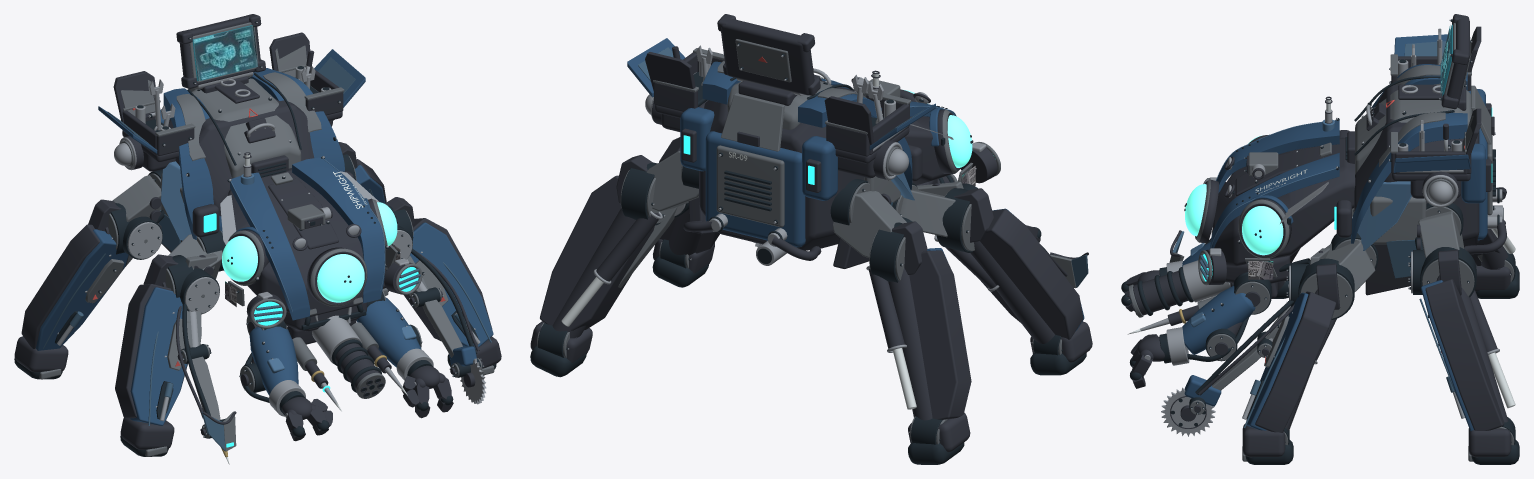
The model's file is shipwright.glb.
3 renders of one model, left to right at view 1: azimuth 30°, elevation 25°; view 2: azimuth 150°, elevation 25°; view 3: azimuth 270°, elevation 25°, orthographic. The views are drawn at different scales.
Parts seen in each view (by area): view 1: Long tapered cobalt shin armor, Grey central dorsal shell, Long blue forehead rail.001, Long blue forehead rail, Forward head graphite shell, Long tapered cobalt shin armor.002, Rear powerplant dark undershell, Long tapered cobalt shin armor.001, Dark shin underplate.001, Source diagnostic screen artwork, Blue raised shoulder fairing, Dark shin underplate (+51 smaller); view 2: Dark shin underplate.001, Dark shin underplate, Dark shin underplate.003, Rear removable battery pack, Rear inset grey service hatch, Rear powerplant dark undershell, Rugged monitor outer case, Long dark leg load spar.001, Rear upper grey spine continuation, Upper link grey armored block.001, Long dark leg load spar, Long dark leg load spar.003 (+43 smaller); view 3: Dark shin underplate.003, Forward head graphite shell, Dark shin underplate.002, Rear powerplant dark undershell, Long blue forehead rail.001, Blue raised shoulder fairing.001, Long blue forehead rail, Molded rounded forearm shell.001, Grey central dorsal shell, Lower shoulder slab.001, Mint convex side optic.001, Long tapered cobalt shin armor.002 (+56 smaller).
Part boxes in pixels (x1=…): Long tapered cobalt shin armor: x1=130, y1=287, x2=187, y2=425; Grey central dorsal shell: x1=192, y1=78, x2=301, y2=178; Long blue forehead rail.001: x1=292, y1=157, x2=384, y2=303; Long blue forehead rail: x1=230, y1=172, x2=310, y2=320; Forward head graphite shell: x1=228, y1=168, x2=363, y2=316; Long tapered cobalt shin armor.002: x1=410, y1=222, x2=493, y2=349; Rear powerplant dark undershell: x1=162, y1=98, x2=314, y2=270; Long tapered cobalt shin armor.001: x1=36, y1=229, x2=128, y2=350; Dark shin underplate.001: x1=21, y1=224, x2=128, y2=348; Source diagnostic screen artwork: x1=193, y1=25, x2=258, y2=81; Blue raised shoulder fairing: x1=163, y1=88, x2=222, y2=239; Dark shin underplate: x1=115, y1=284, x2=187, y2=418; Dark shin underplate.001: x1=909, y1=250, x2=971, y2=419; Dark shin underplate: x1=980, y1=209, x2=1083, y2=339; Dark shin underplate.003: x1=540, y1=175, x2=654, y2=330; Rear removable battery pack: x1=705, y1=131, x2=805, y2=247; Rear inset grey service hatch: x1=716, y1=145, x2=784, y2=227; Rear powerplant dark undershell: x1=699, y1=85, x2=864, y2=250; Rugged monitor outer case: x1=721, y1=19, x2=814, y2=95; Long dark leg load spar.001: x1=888, y1=268, x2=932, y2=420; Rear upper grey spine continuation: x1=721, y1=93, x2=784, y2=151; Upper link grey armored block.001: x1=833, y1=191, x2=906, y2=257; Long dark leg load spar: x1=970, y1=241, x2=1054, y2=343; Long dark leg load spar.003: x1=552, y1=208, x2=635, y2=338; Dark shin underplate.003: x1=1425, y1=279, x2=1504, y2=430; Forward head graphite shell: x1=1212, y1=137, x2=1355, y2=266; Dark shin underplate.002: x1=1255, y1=291, x2=1336, y2=432; Rear powerplant dark undershell: x1=1354, y1=84, x2=1479, y2=248; Long blue forehead rail.001: x1=1209, y1=153, x2=1339, y2=248; Blue raised shoulder fairing.001: x1=1351, y1=112, x2=1467, y2=243; Long blue forehead rail: x1=1216, y1=120, x2=1339, y2=193; Molded rounded forearm shell.001: x1=1182, y1=285, x2=1255, y2=354; Grey central dorsal shell: x1=1355, y1=83, x2=1472, y2=173; Lower shoulder slab.001: x1=1357, y1=181, x2=1411, y2=250; Mint convex side optic.001: x1=1242, y1=206, x2=1283, y2=255; Long tapered cobalt shin armor.002: x1=1246, y1=292, x2=1308, y2=430.
Size of the model in its own units: 5.84 by 4.94 by 5.16.
17 materials, 3 textured.
